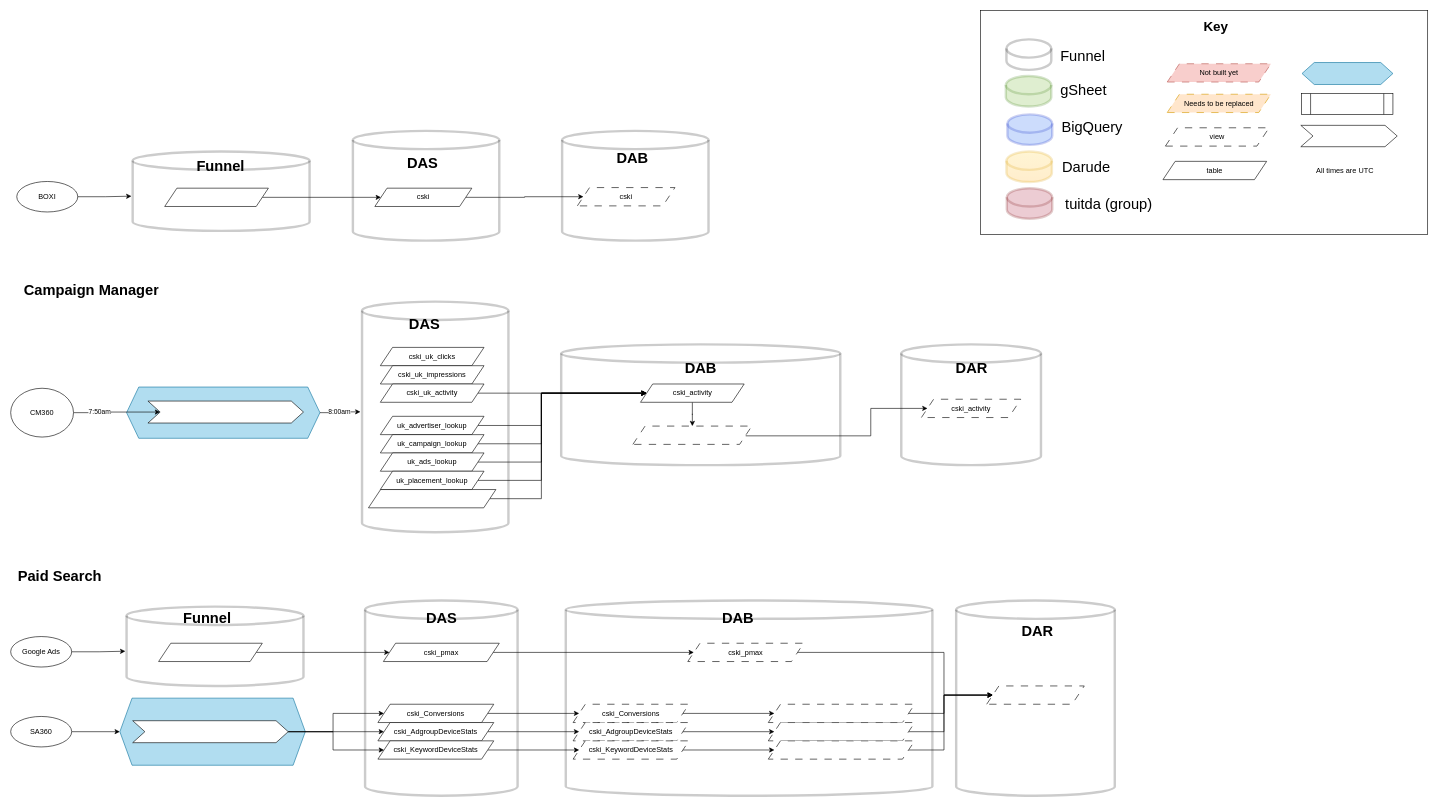
The diagram is 1438 pixels wide and 808 high, and some of its shapes have lost their labels. Each missing label, with the centre of its shape:
boxi_cski: [216,197]
campaignmanager_transfer_cski: [225,411]
Cloud Function: [1348,136]
Cloud Scheduler: [1347,103]
cski_activity_somantic: [692,434]
cski_AdgroupDeviceStats_somantic: [841,731]
cski_all: [1035,694]
cski_Conversions_somantic: [841,713]
cski_KeywordDeviceStats_somantic: [841,749]
Google Cloud Process: [1347,73]
GoogleAds_PMAX: [210,652]
SA360_UK_CSKI: [210,731]
uk_floodlight_activities_lookup: [432,498]
